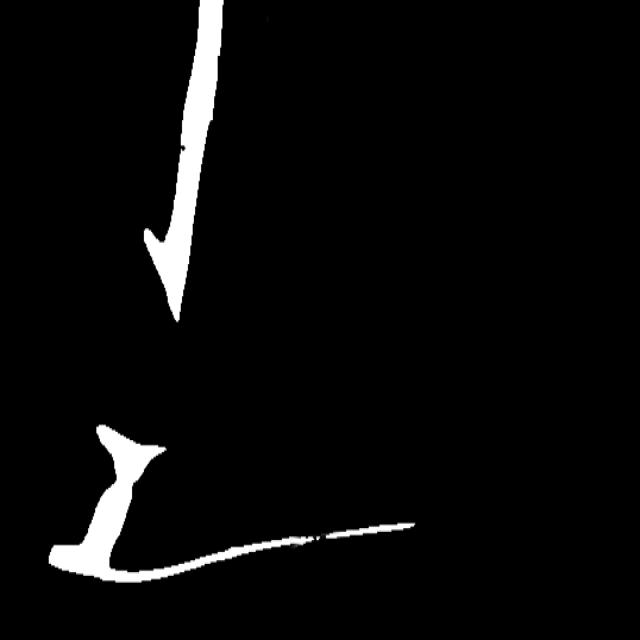inf: (306, 530, 338, 550)
